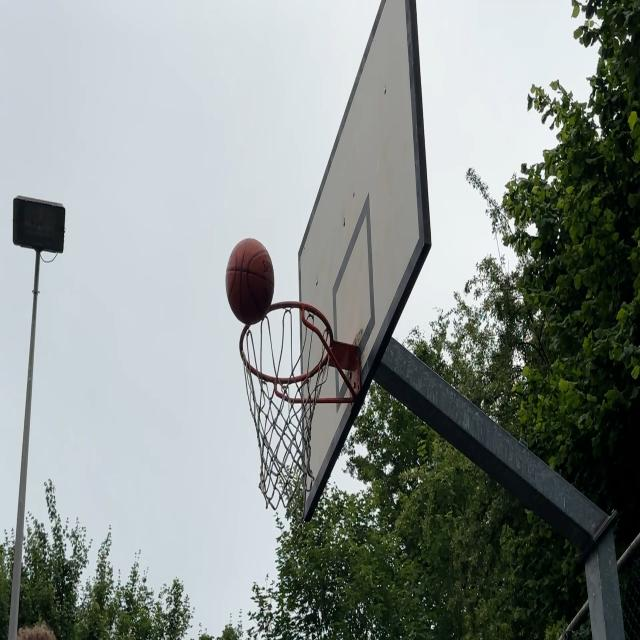rebound_hit: (227, 236, 275, 324)
